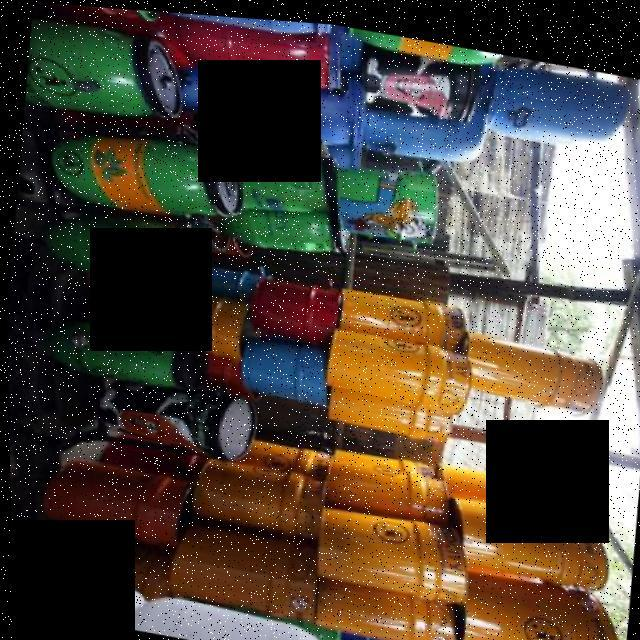bin: (41, 115, 248, 233), (23, 13, 195, 125), (441, 480, 612, 586), (33, 195, 218, 288), (33, 445, 193, 546), (36, 307, 211, 396), (479, 48, 634, 146), (318, 316, 471, 412), (457, 322, 608, 417), (451, 561, 623, 640)
